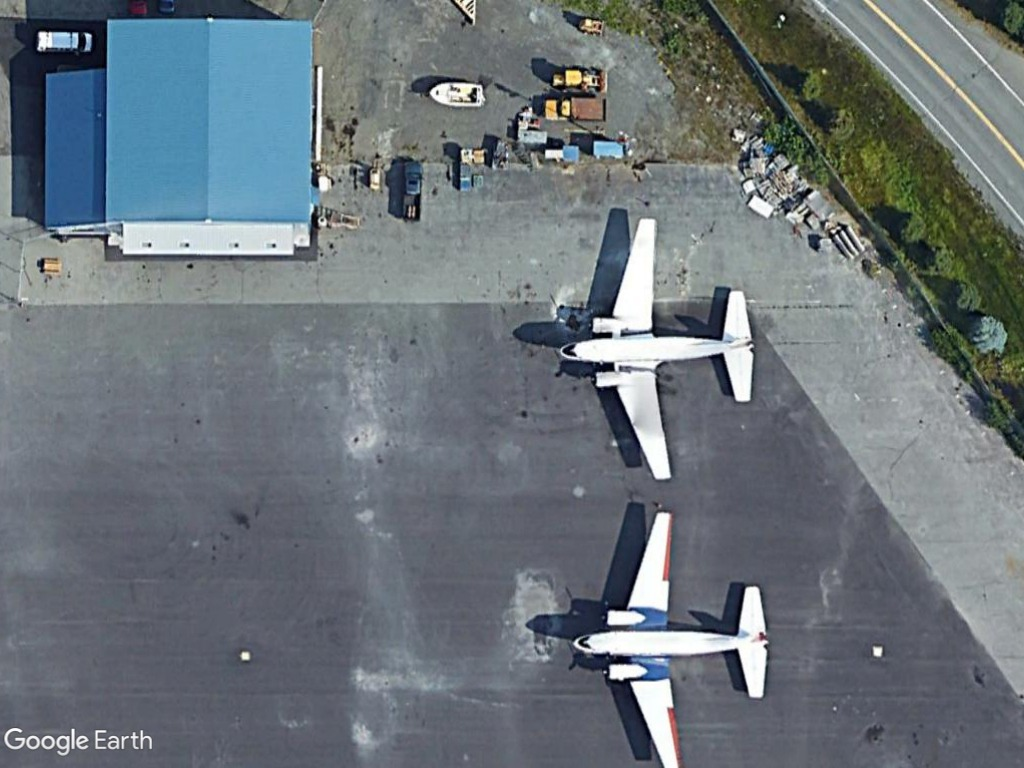boat: (425, 74, 488, 111)
propeller: (553, 204, 766, 486), (567, 501, 779, 768)
